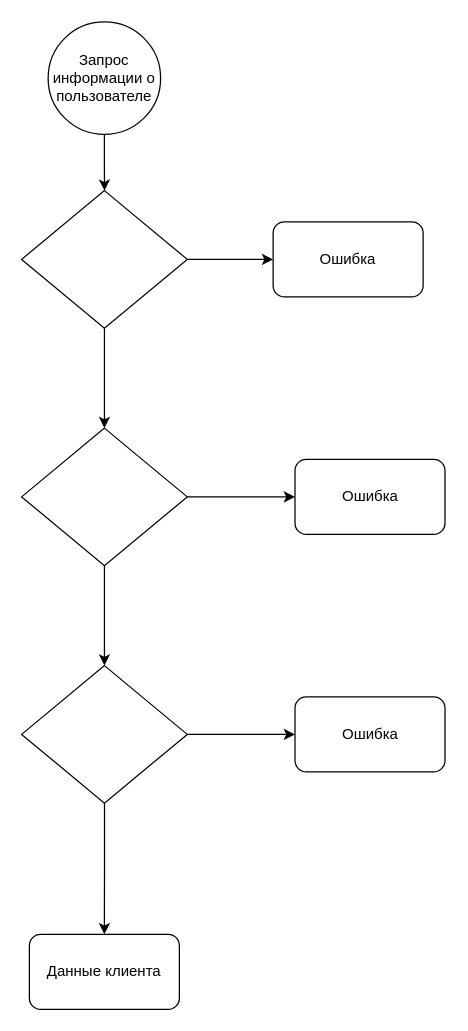
This 468x1031 diagram has some shape labels left out. Here are the shapes that lost their labels. From the top down, the centre of each, then its label:
At (x=103, y=258): "Поиск партнера по названию".
At (x=103, y=496): "Проверка пароли".
At (x=103, y=733): "Запрос данных клиента по ID".
